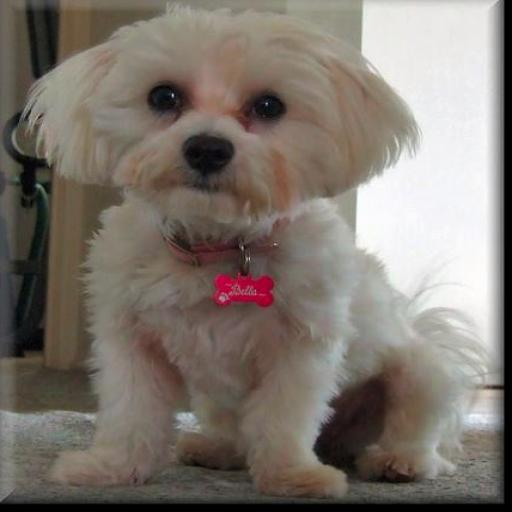dog_face: (28, 12, 406, 205)
